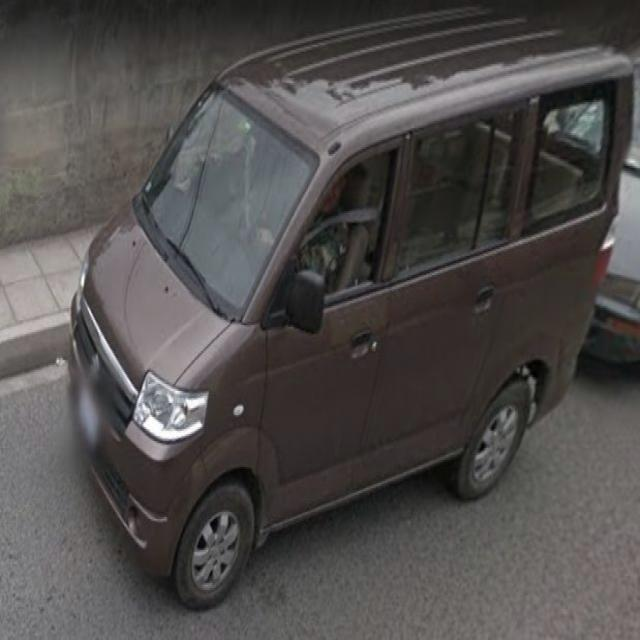Car: (76, 18, 627, 624)
